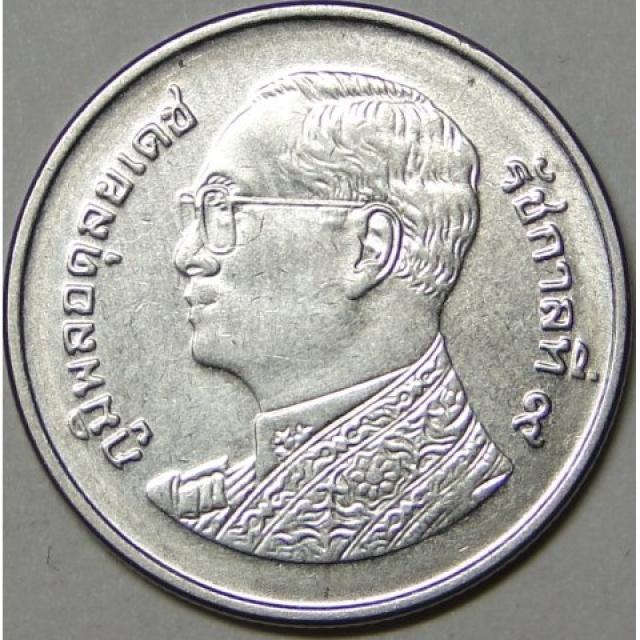1 Bath: (9, 1, 640, 640)
